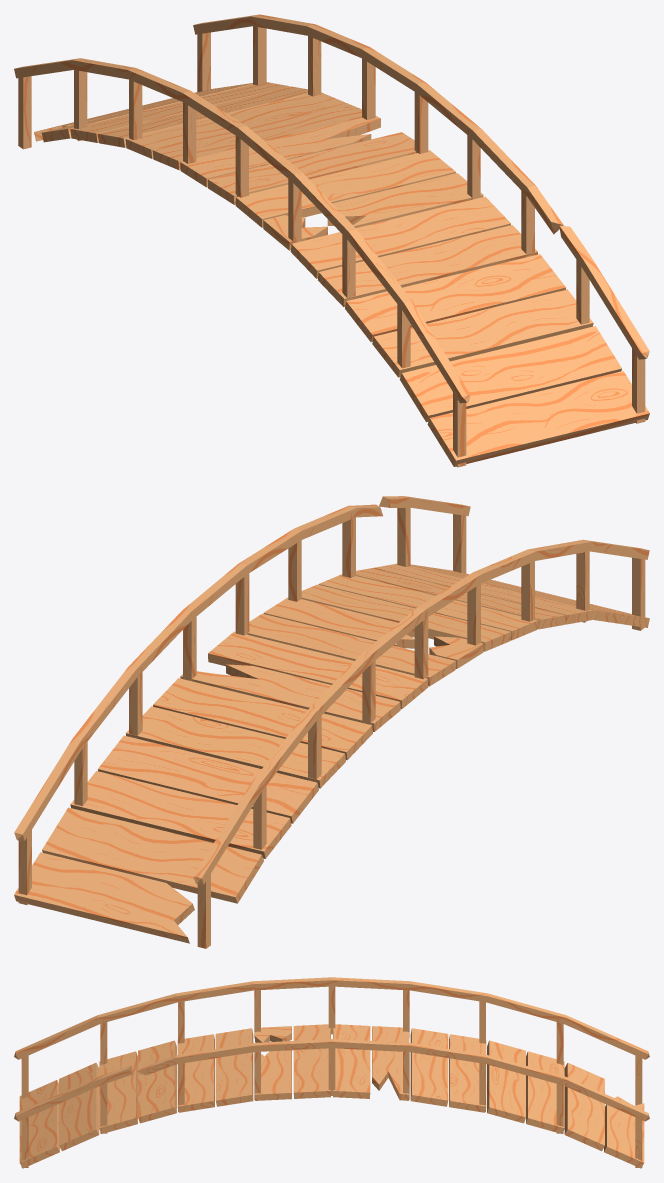
Rendered from bridge.fbx.
3 renders of one model, top to bottom at view 1: azimuth 30°, elevation 25°; view 2: azimuth 150°, elevation 25°; view 3: azimuth 270°, elevation 25°, orthographic. The views are drawn at different scales.
Parts seen in each view (by area): view 1: Bridge; view 2: Bridge; view 3: Bridge.
Part boxes in pixels (bbox=[...]): Bridge: bbox=[14, 14, 649, 467]; Bridge: bbox=[14, 496, 649, 948]; Bridge: bbox=[14, 977, 649, 1168].
Bounding box in the file's own units: 227 × 200 × 915.
